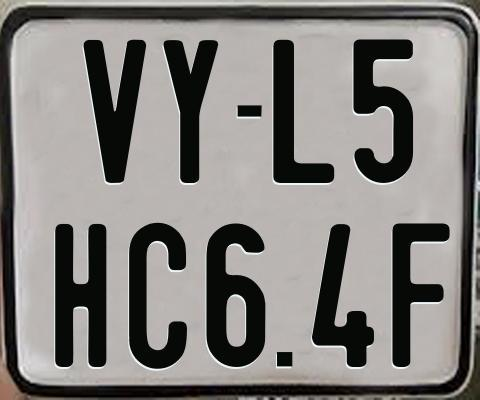4: (312, 224, 375, 368)
5: (351, 39, 412, 183)
6: (204, 222, 270, 367)
C: (128, 221, 187, 371)
F: (390, 220, 452, 365)
H: (55, 221, 108, 367)
L: (273, 38, 334, 187)
V: (84, 37, 146, 182)
Y: (160, 38, 218, 187)
